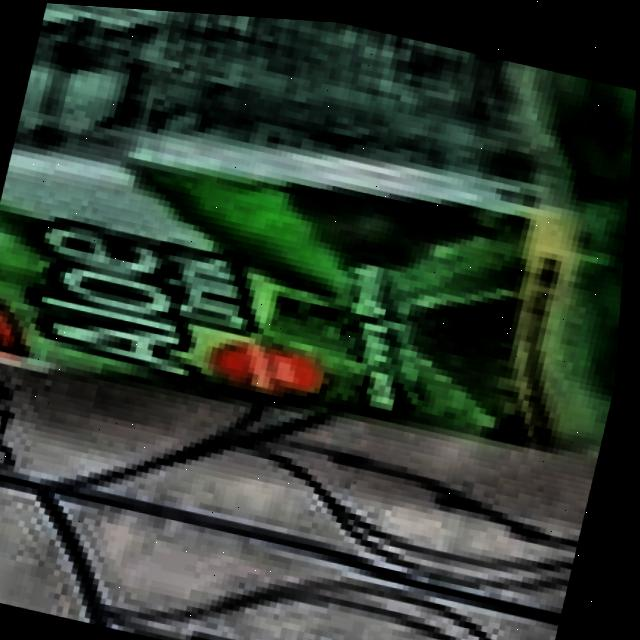plastic: (0, 0, 640, 528)
